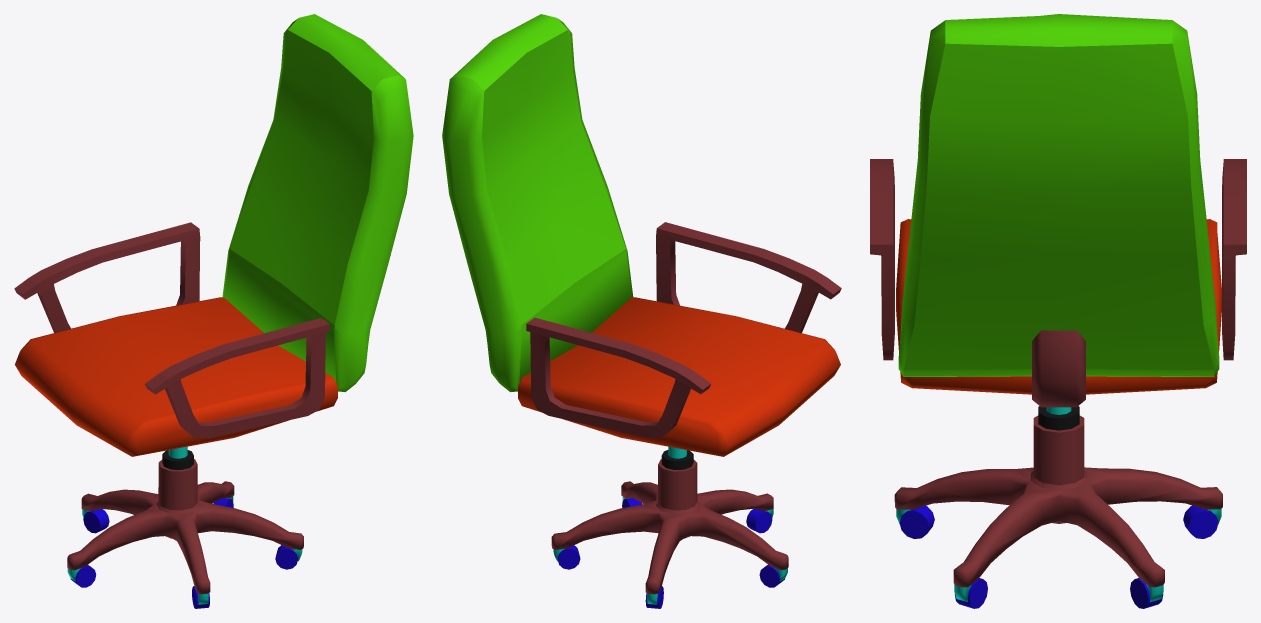
File: ChairA.fbx
3 renders of one model, left to right at view 1: azimuth 30°, elevation 25°; view 2: azimuth 150°, elevation 25°; view 3: azimuth 270°, elevation 25°, orthographic. The views are drawn at different scales.
Parts seen in each view (by area): view 1: chair; view 2: chair; view 3: chair.
Part boxes in pixels (x1,y1,x2,y2): chair: (14,14,413,608); chair: (442,14,841,608); chair: (870,14,1246,608).
Size of the model in its own units: 109 by 163 by 85.92.
